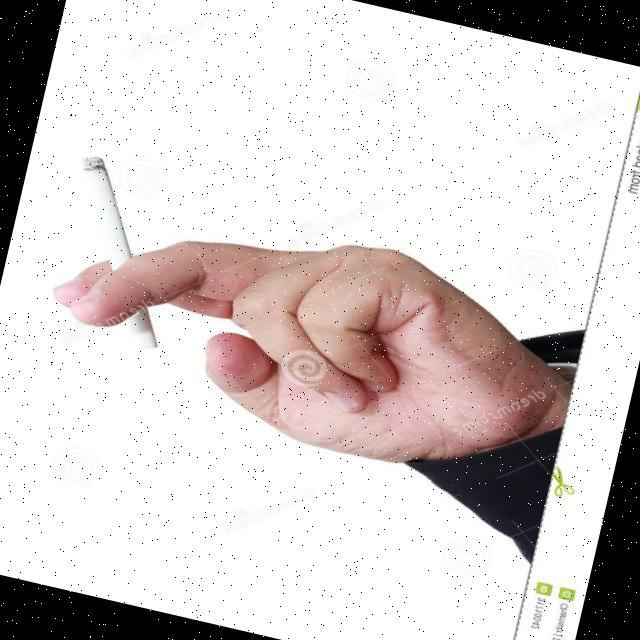cigarette: (52, 146, 160, 274)
